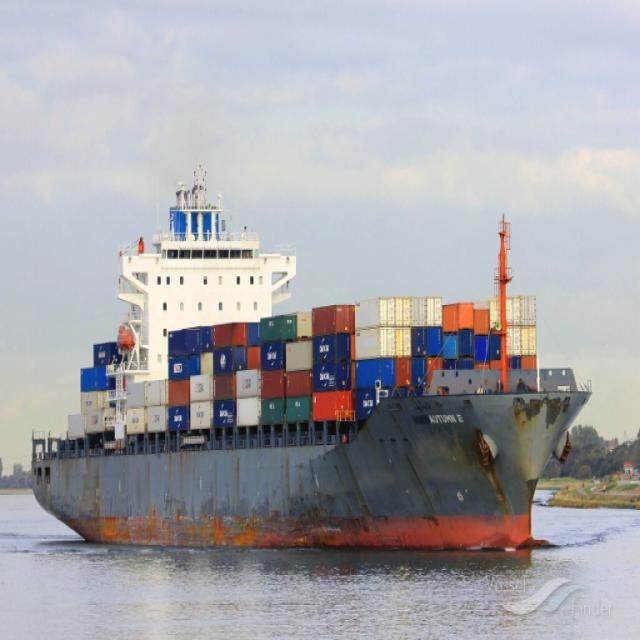Container Ship: (30, 179, 585, 550)
